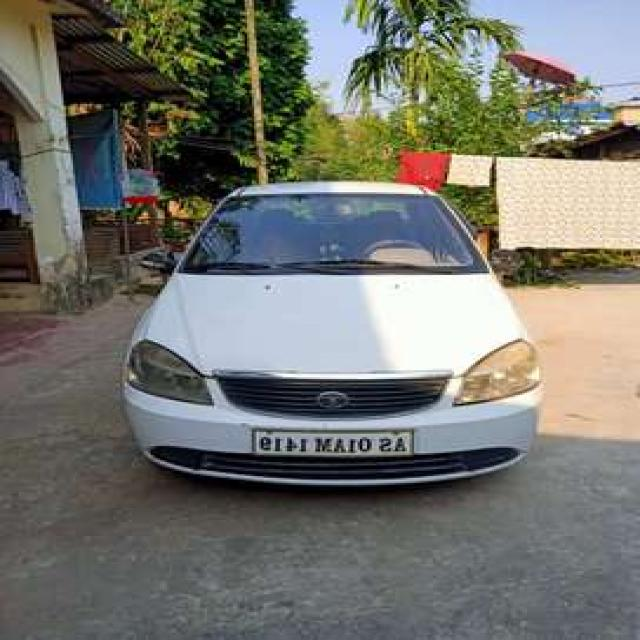license_plate: (244, 424, 424, 462)
